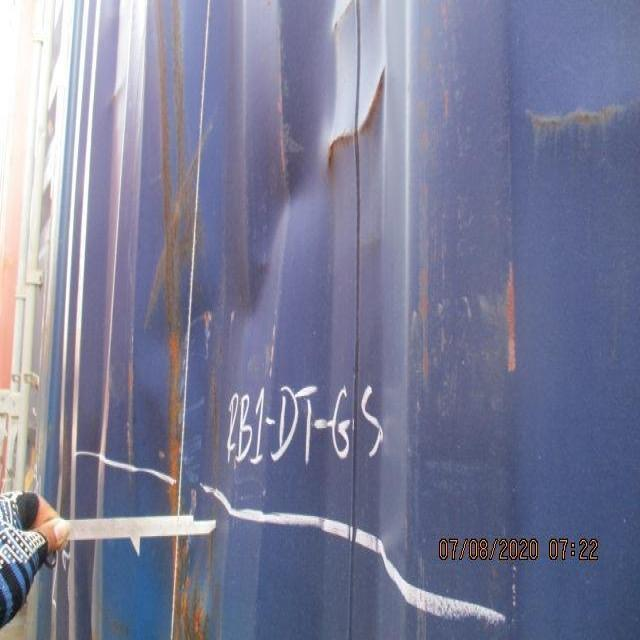dent: (72, 15, 419, 579)
